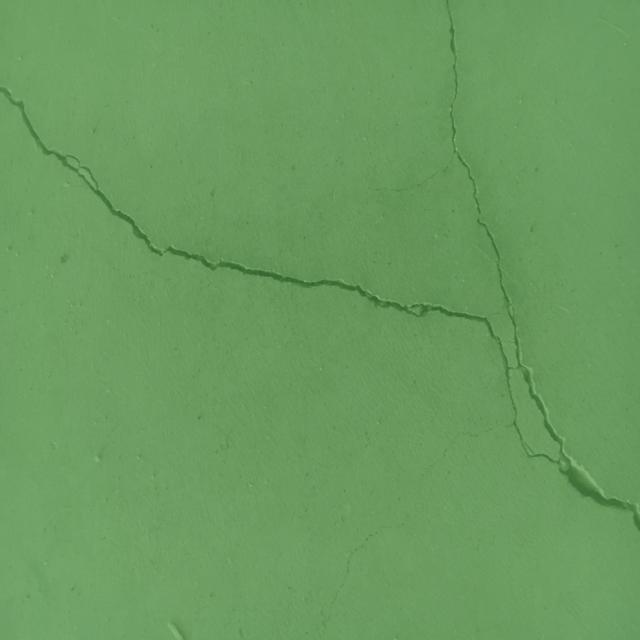crack: (0, 0, 640, 533), (306, 523, 402, 635)
